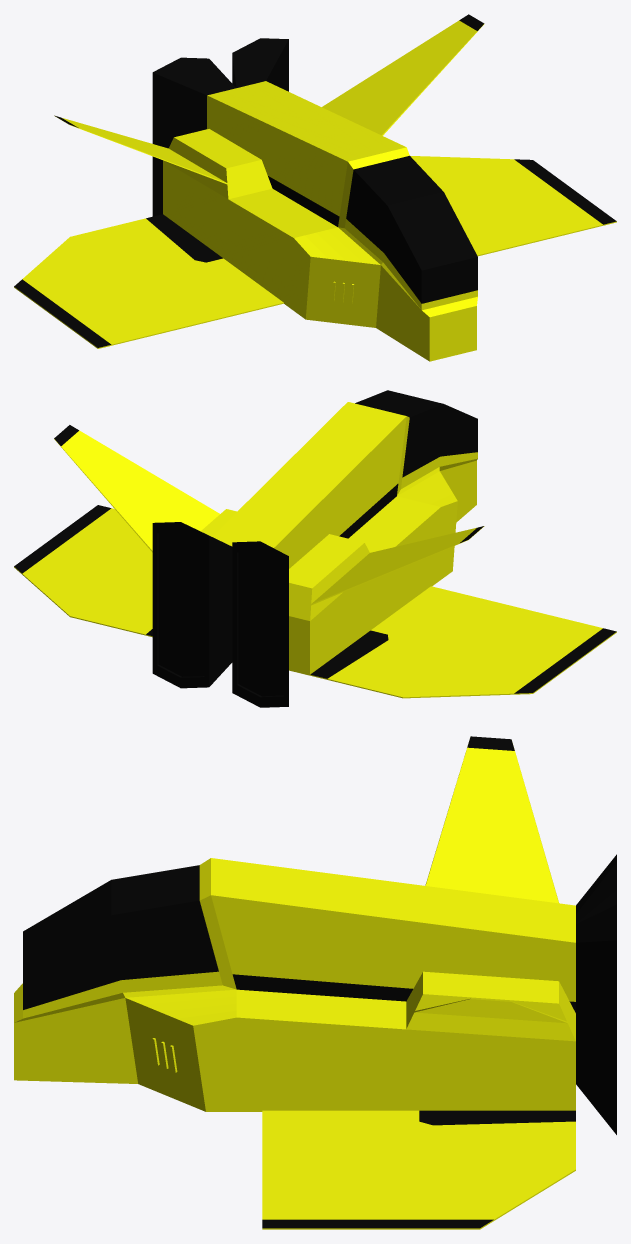
Rendered from Pisces02fbx.fbx.
The picture shows the model from 3 angles, top to bottom: view 1: azimuth 30°, elevation 25°; view 2: azimuth 150°, elevation 25°; view 3: azimuth 270°, elevation 25°; orthographic projection. The views are drawn at different scales.
Visible parts, largest first — view 1: Cube; view 2: Cube; view 3: Cube.
Part boxes in pixels (x1,y1,x2,y2): Cube: (14,14,616,361); Cube: (14,390,616,707); Cube: (14,736,616,1229).
Bounding box in the file's own units: 996 × 333 × 773.
